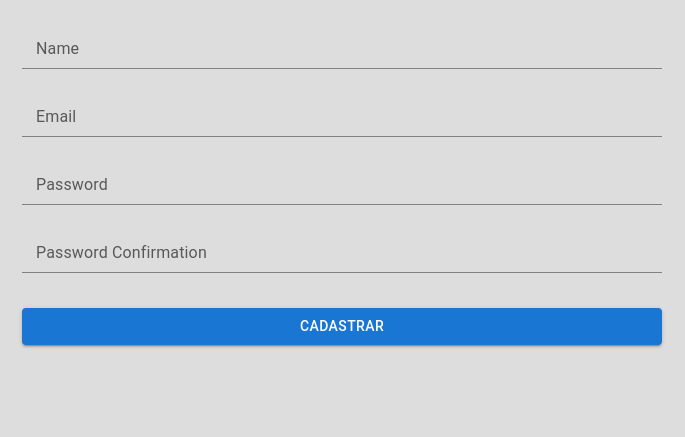
Test: Suit de Testes SignUp Page › Should show error messages WHEN passwords not match
The width and height of the screenshot is (685, 437).
Step 1. Type "ok" into the field named "email" next to "Email" → (342, 121), box x1=22 y1=105 x2=662 y2=137
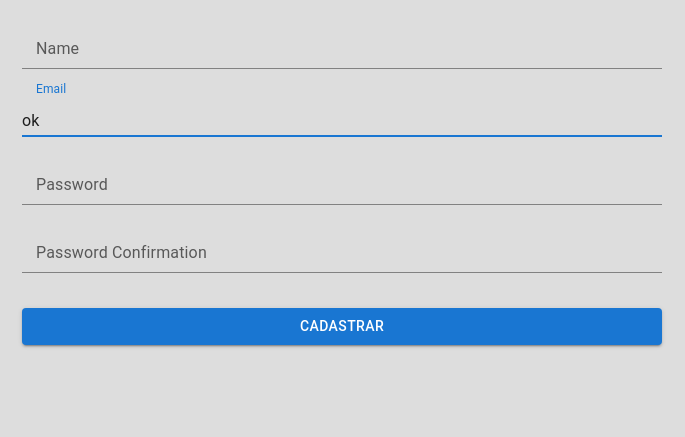
Step 2. Type "123456" into the 1st password field named "password" → (342, 189), box x1=22 y1=173 x2=662 y2=205
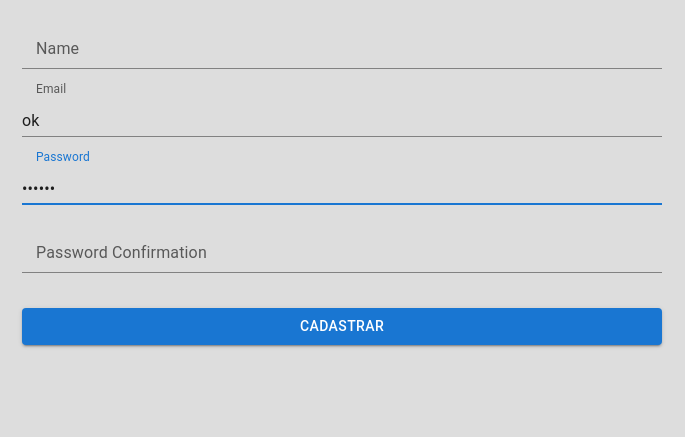
Step 3. Type "1234567" into the password field named "password_confirmation" next to "Password Confirmation" → (342, 257), box x1=22 y1=241 x2=662 y2=273
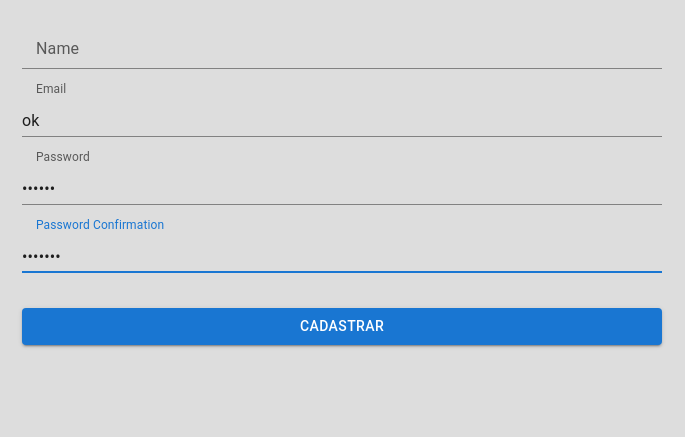
Step 4. Type "test" into the field named "name" next to "Name" → (342, 53), box x1=22 y1=37 x2=662 y2=69
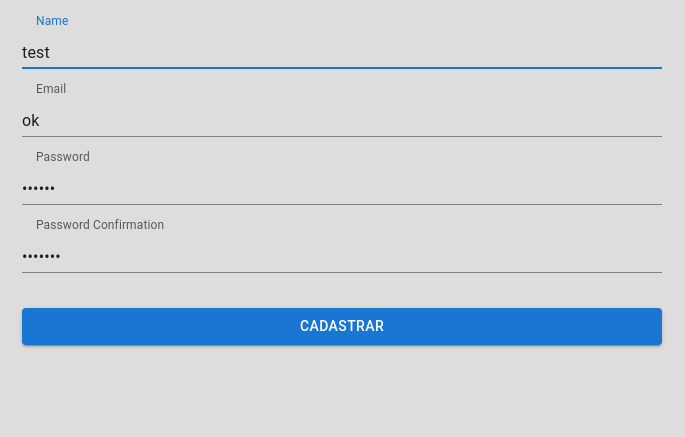
Step 5. Click the button "Cadastrar" → (342, 326), box x1=22 y1=308 x2=662 y2=344
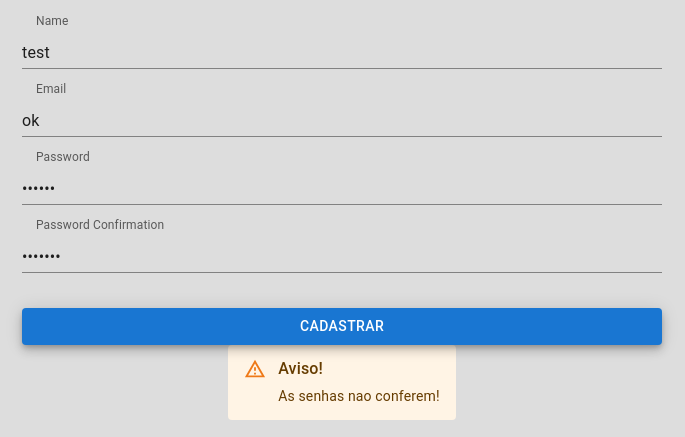
Check: the element showing "Aviso! As senhas nao conferem!" is shown, box x1=278 y1=350 x2=440 y2=414
